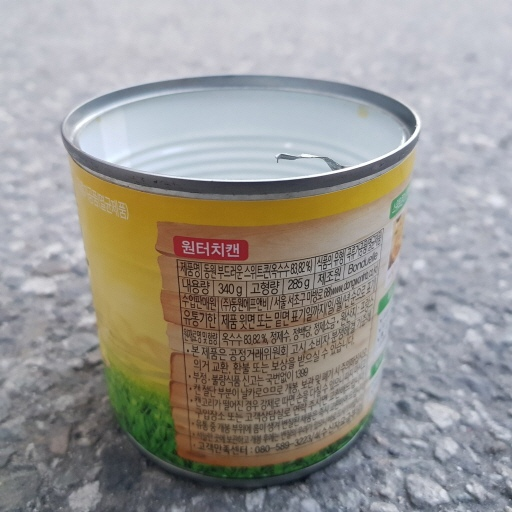Metal_1: (59, 72, 422, 482)
